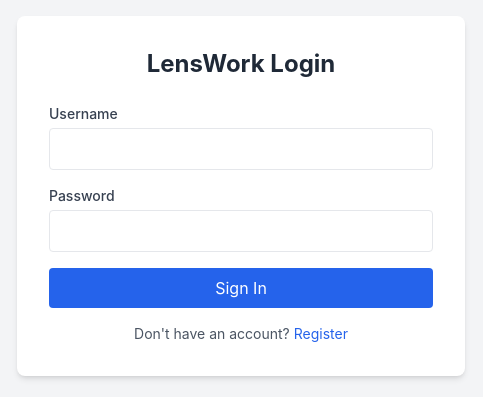
LoginPage › disables button and shows spinner text while loading
Type "a" into the field.
click(241, 149); type("a")  # box top-left (49, 128), bottom-right (433, 170)
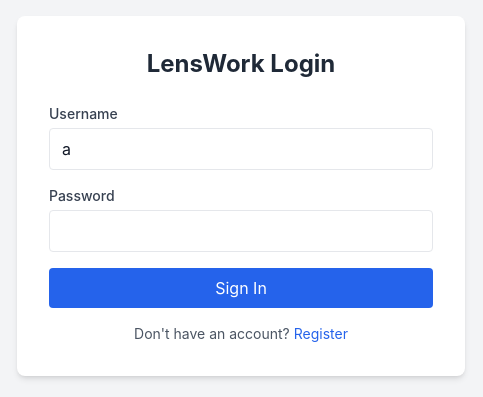
Type "p" into the password field.
click(241, 231); type("p")  # box top-left (49, 210), bottom-right (433, 252)
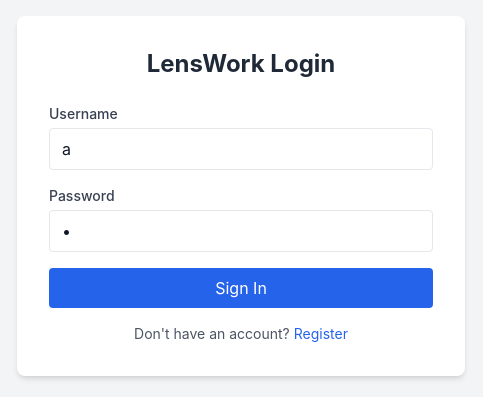
Click the button "Sign In".
click(241, 288)  # box top-left (49, 268), bottom-right (433, 308)
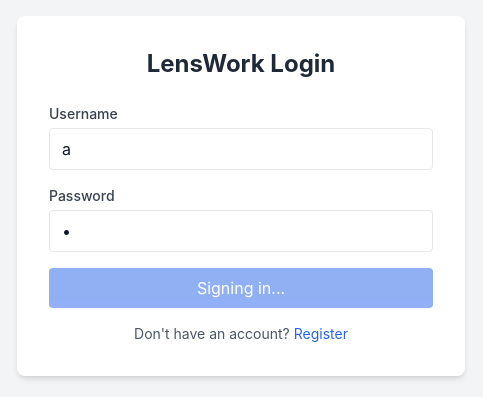
Expected: the button "Signing in..." is disabled, top-left (49, 268), bottom-right (433, 308)
